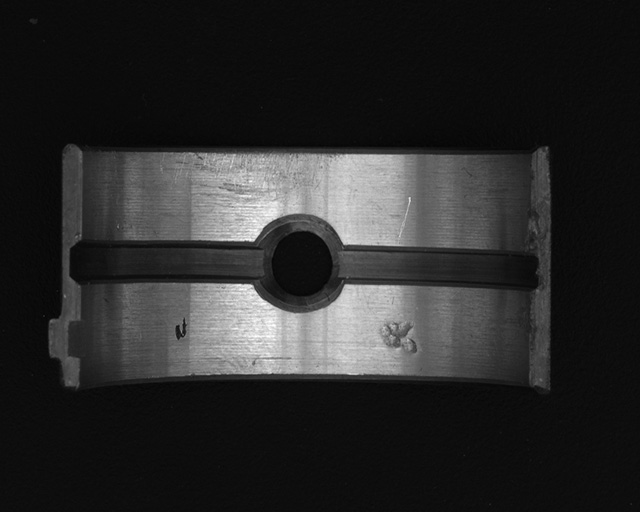blot: (175, 316, 188, 343)
bruise: (378, 320, 419, 357)
gap: (335, 244, 540, 294), (70, 241, 269, 286)
hole: (254, 216, 346, 311)
nick: (396, 196, 412, 245)
scratch: (156, 150, 345, 203)
